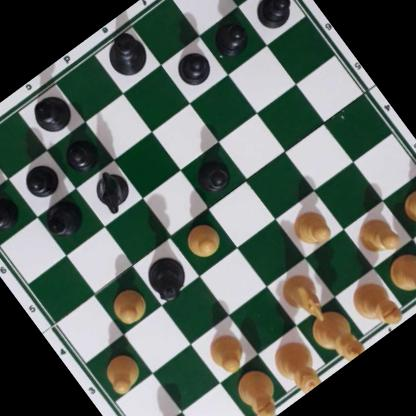black-bishop: (24, 86, 77, 138), (38, 195, 89, 245)
black-king: (98, 27, 154, 84)
black-knight: (85, 165, 135, 216)
black-pawn: (187, 150, 237, 199), (168, 44, 216, 91), (17, 157, 63, 204), (208, 15, 253, 61), (57, 130, 102, 176), (248, 0, 298, 35), (0, 190, 22, 236)
black-queen: (139, 248, 197, 307)
white-bishop: (345, 274, 407, 340), (228, 362, 287, 416)
white-king: (303, 302, 368, 371)
white-knight: (273, 266, 333, 331)
white-pawn: (350, 208, 404, 262), (201, 326, 252, 379), (102, 280, 153, 331), (95, 348, 146, 399), (284, 202, 334, 253), (179, 217, 226, 265), (396, 179, 416, 231)
white-queen: (265, 333, 329, 400)
white-rook: (379, 240, 416, 313)
